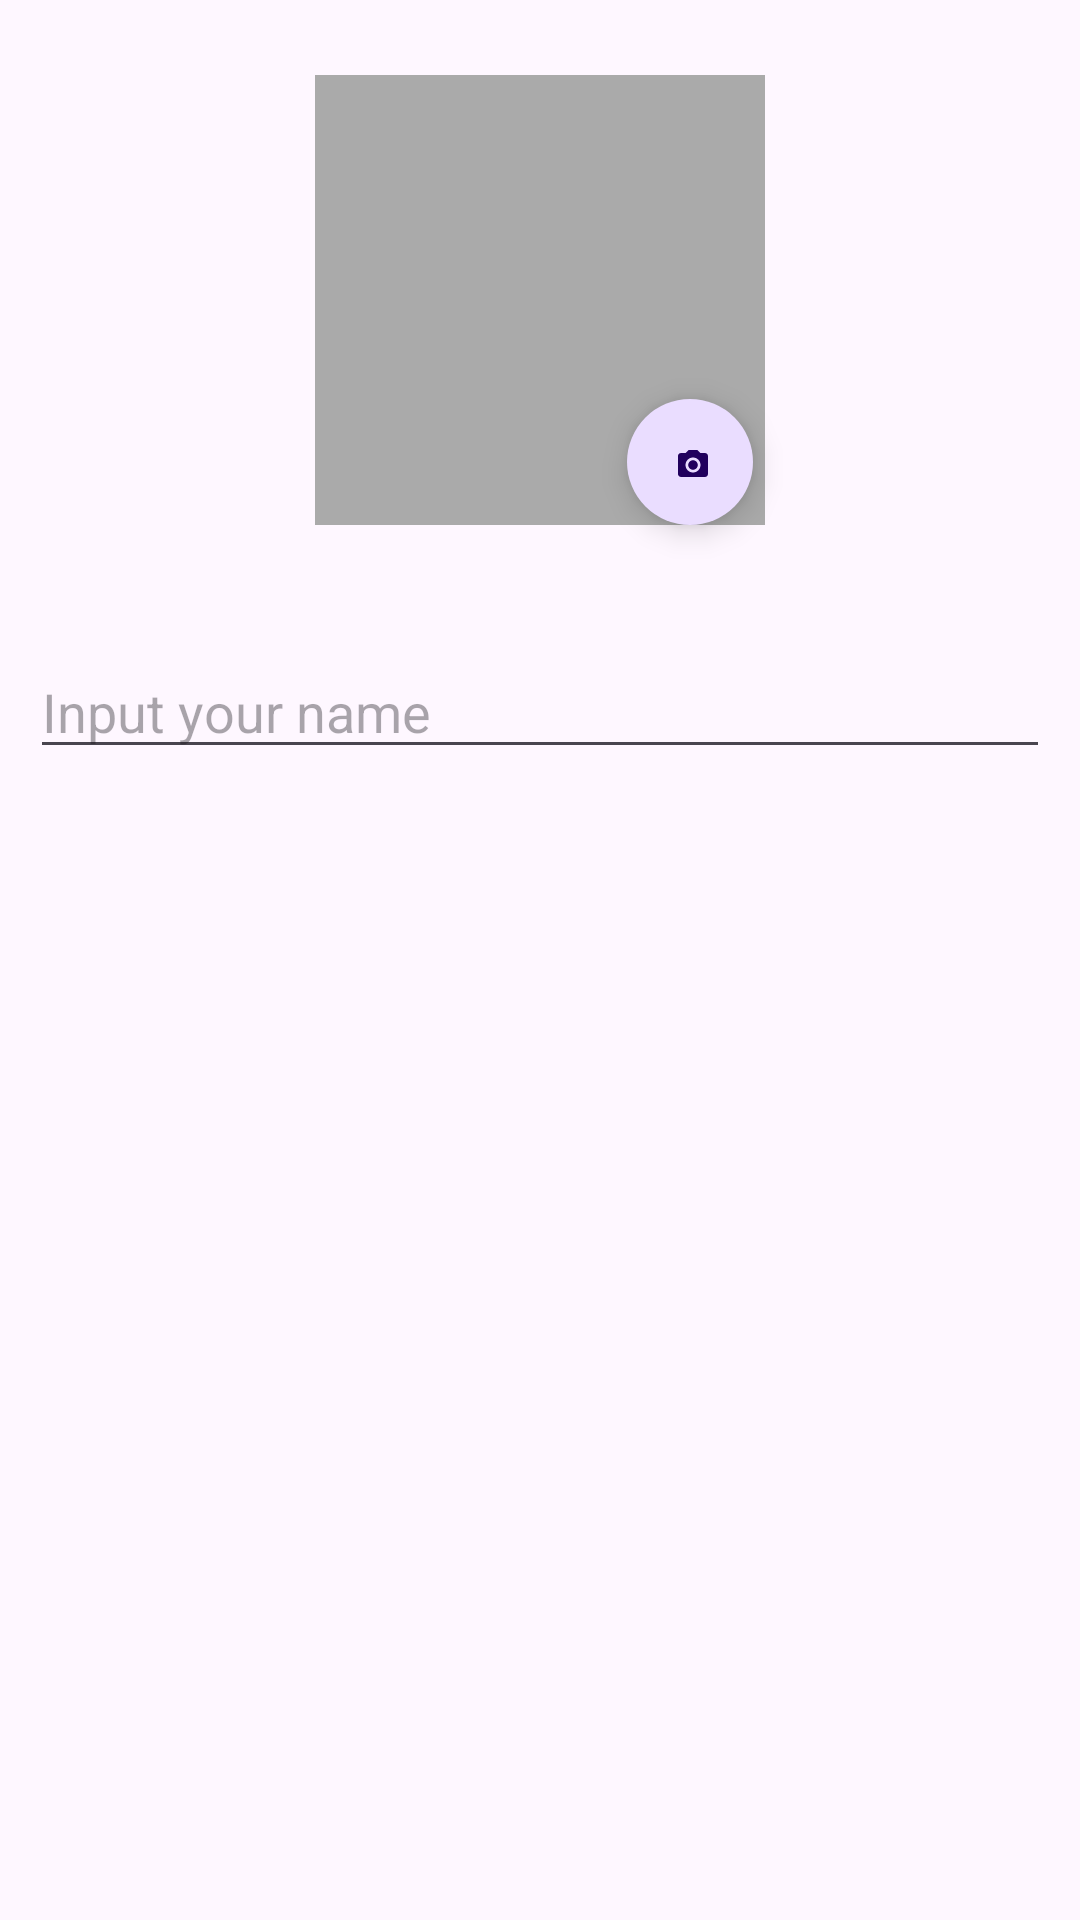

Icon bounding boxes for this 1080px×1920px phone screenshot, format {"x1": x1, "y1": y1, "x2": x2, "y2": y2}:
camera: {"x1": 627, "y1": 399, "x2": 753, "y2": 525}
